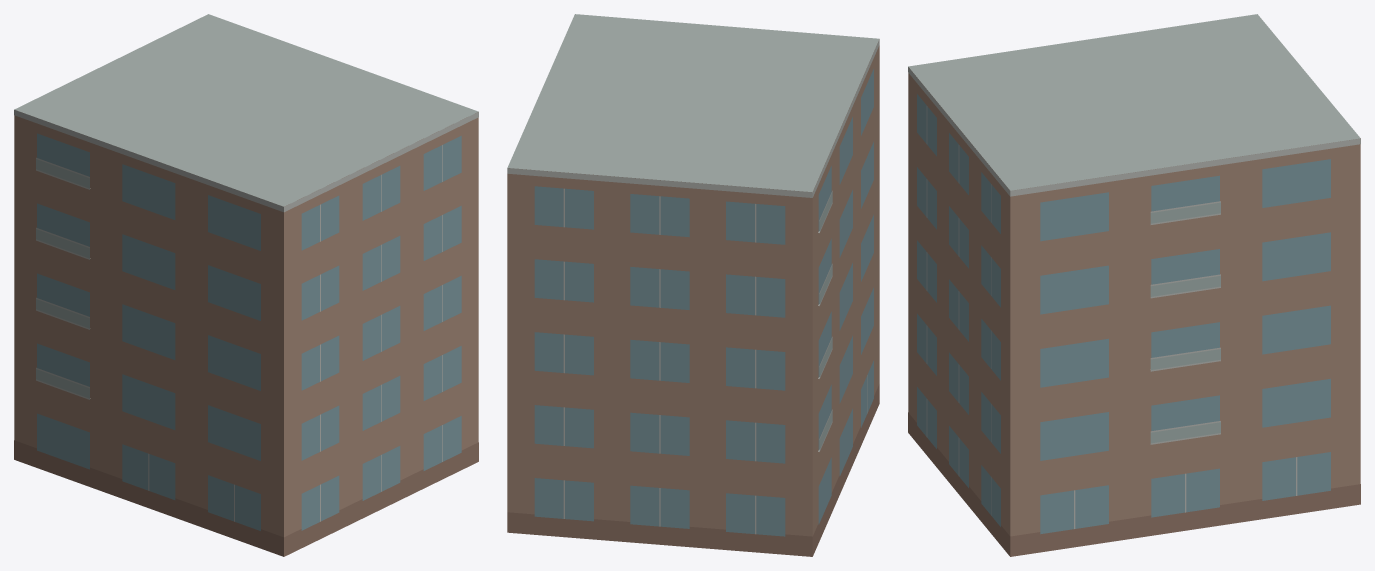
File: survey-upis-32699252.glb
3 renders of one model, left to right at view 1: azimuth 30°, elevation 25°; view 2: azimuth 150°, elevation 25°; view 3: azimuth 270°, elevation 25°, orthographic. The views are drawn at different scales.
Parts seen in each view (by area): view 1: survey-upis-32699252.tmp; view 2: survey-upis-32699252.tmp; view 3: survey-upis-32699252.tmp.
Boxes of the visible parts, x1,y1,x2,y2 form: survey-upis-32699252.tmp: (14, 14, 478, 556); survey-upis-32699252.tmp: (507, 14, 879, 556); survey-upis-32699252.tmp: (908, 14, 1360, 556).
Size of the model in its own units: 15.8 by 15.25 by 17.1.
